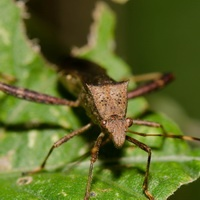insect: (127, 136, 199, 199), (1, 151, 89, 199), (90, 145, 146, 199)
